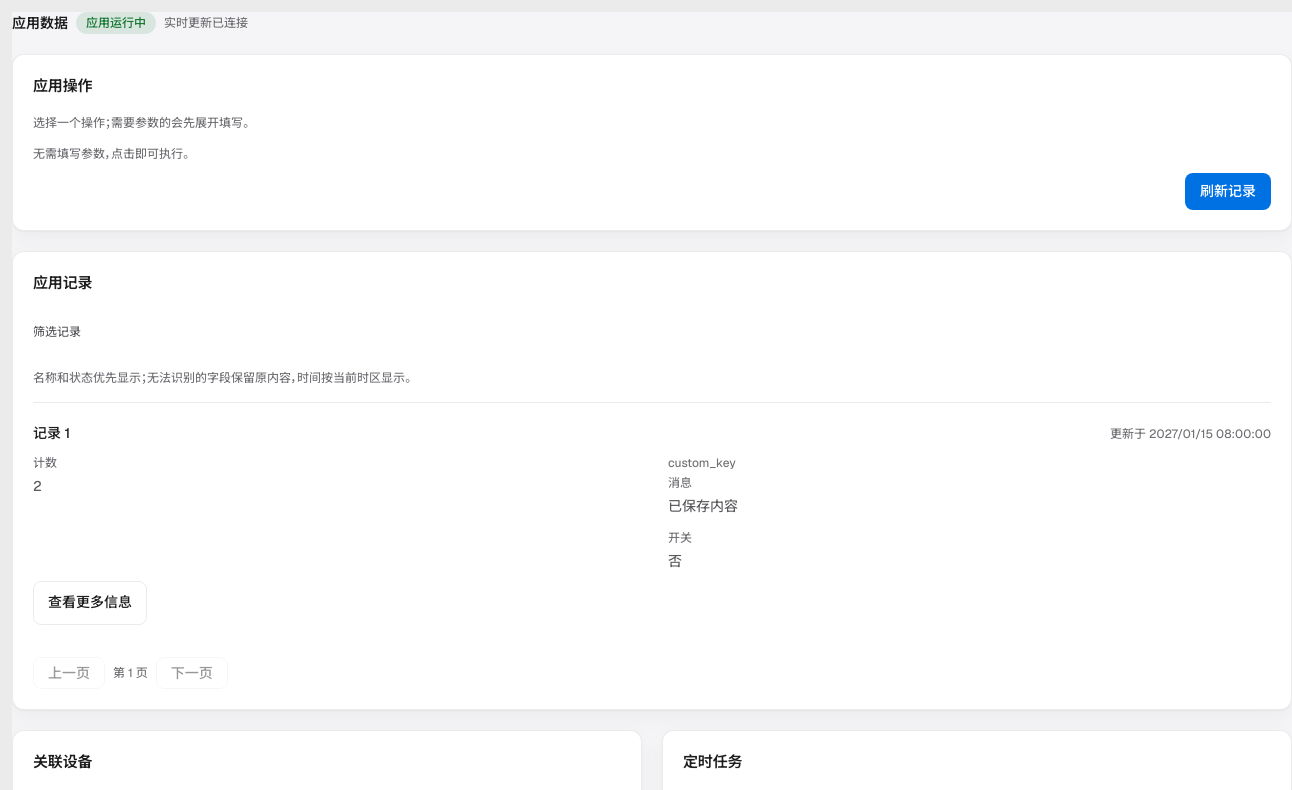
Test: 参数与不可信执行结果 › 空或非 JSON 结果不伪造结构：
Click the button with aria-label "执行「刷新记录」" at [1228, 191], box [1185,172,1271,210]
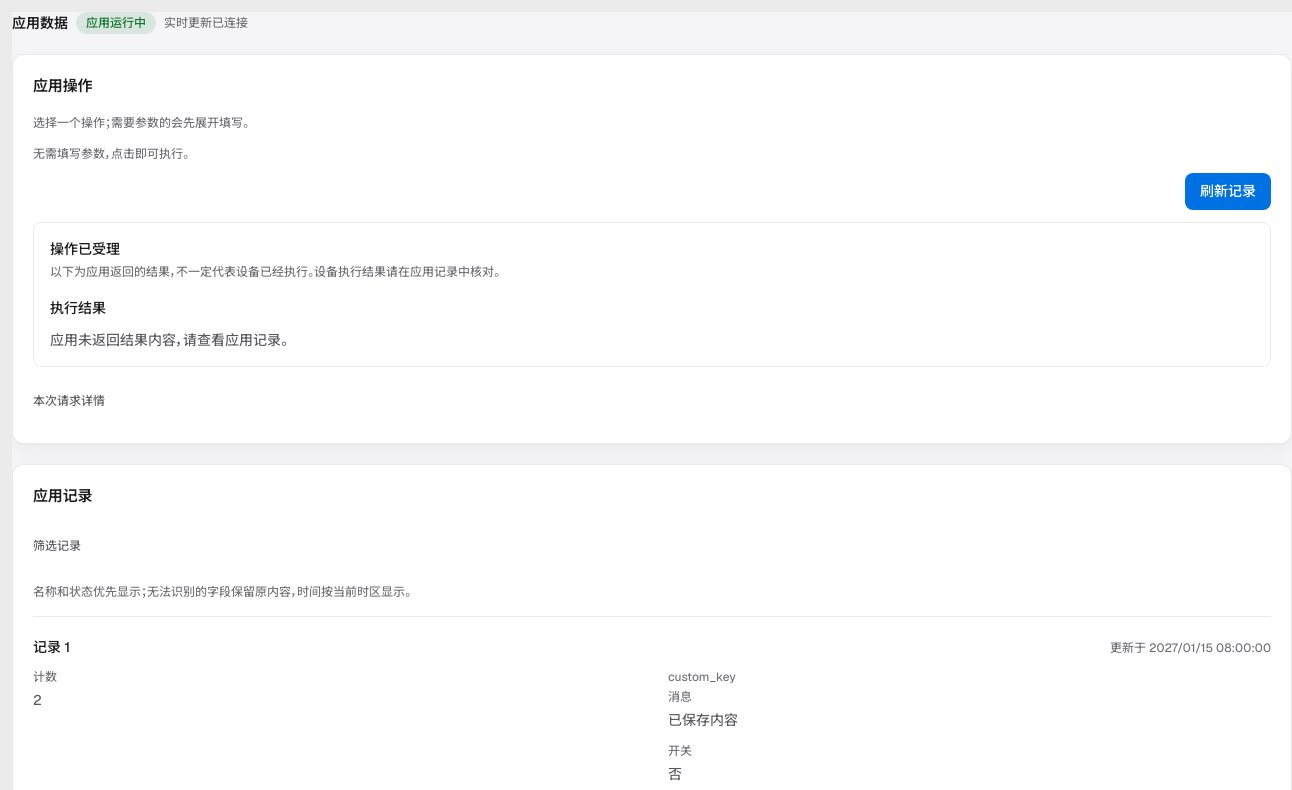
Expected: the text "操作已受理" is shown, [50,240,120,258]
Expected: the text "应用未返回结果内容，请查看应用记录。" is shown, [50,331,288,349]
